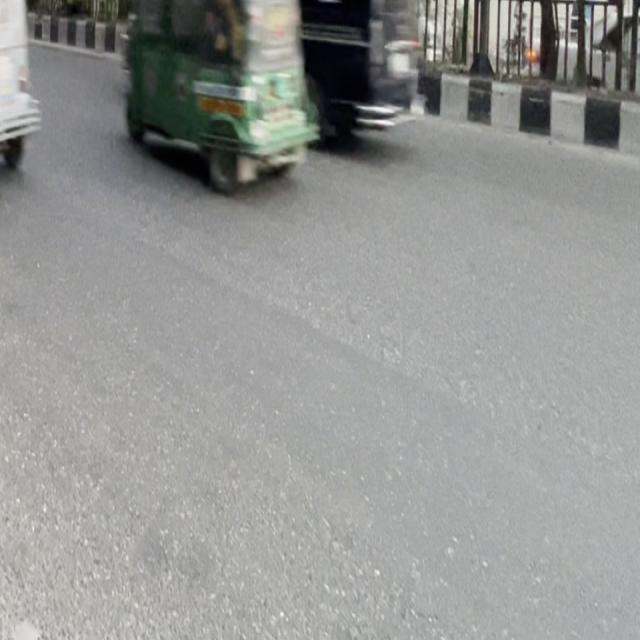car: (292, 0, 451, 168)
rickshaw: (105, 0, 328, 208), (0, 0, 49, 227)
